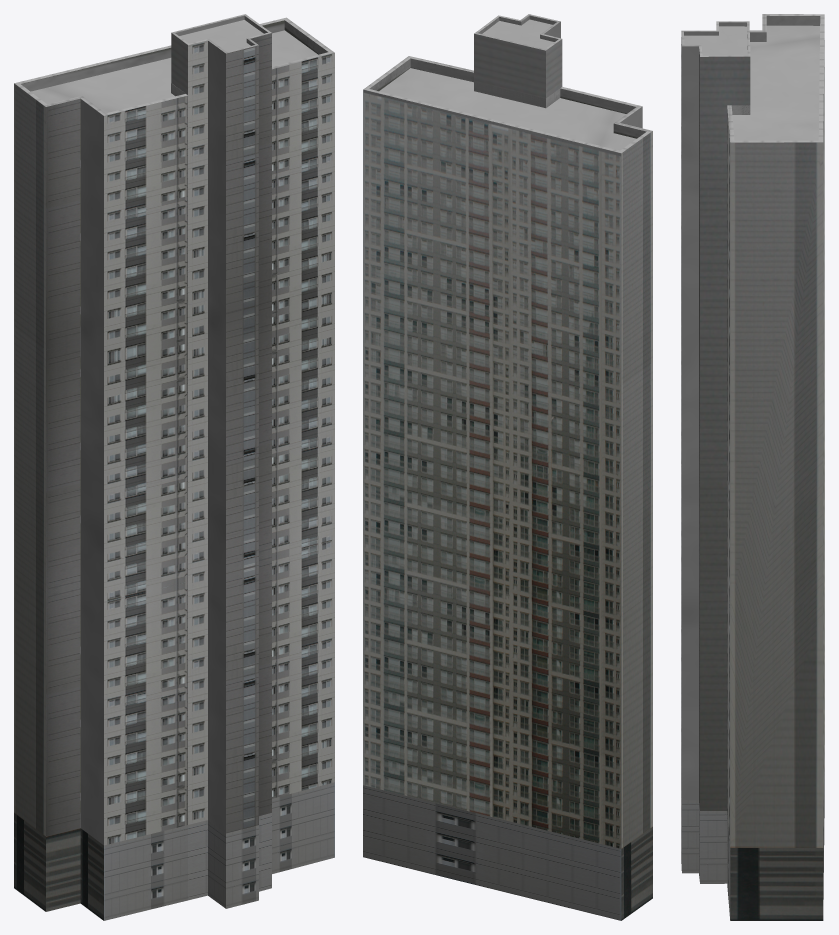
3 views of the same model, side by side, from view 1: azimuth 30°, elevation 25°; view 2: azimuth 150°, elevation 25°; view 3: azimuth 270°, elevation 25° (orthographic). The views are drawn at different scales.
Visible parts, largest first — view 1: MainBuilding; view 2: MainBuilding; view 3: MainBuilding.
Boxes of the visible parts, x1,y1,x2,y2 form: MainBuilding: (14,14,334,920); MainBuilding: (363,14,652,920); MainBuilding: (681,14,824,920).
Bounding box in the file's own units: 0.34 × 1.02 × 0.1605.
1 material, 1 textured.
